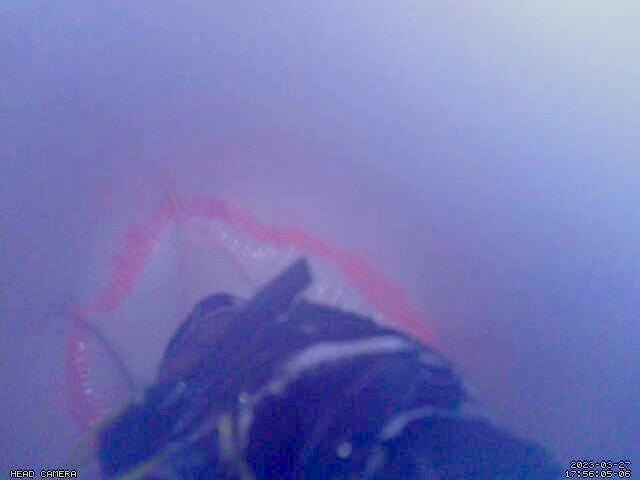head: (60, 190, 443, 450)
